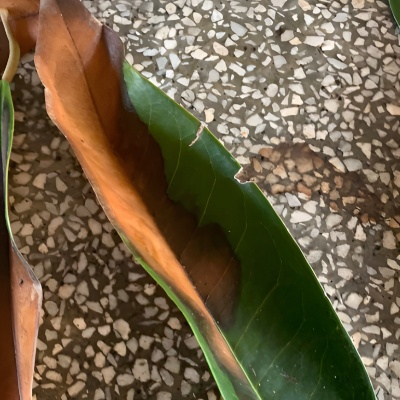Leaf_Rhizoctonia: (28, 3, 393, 400)
